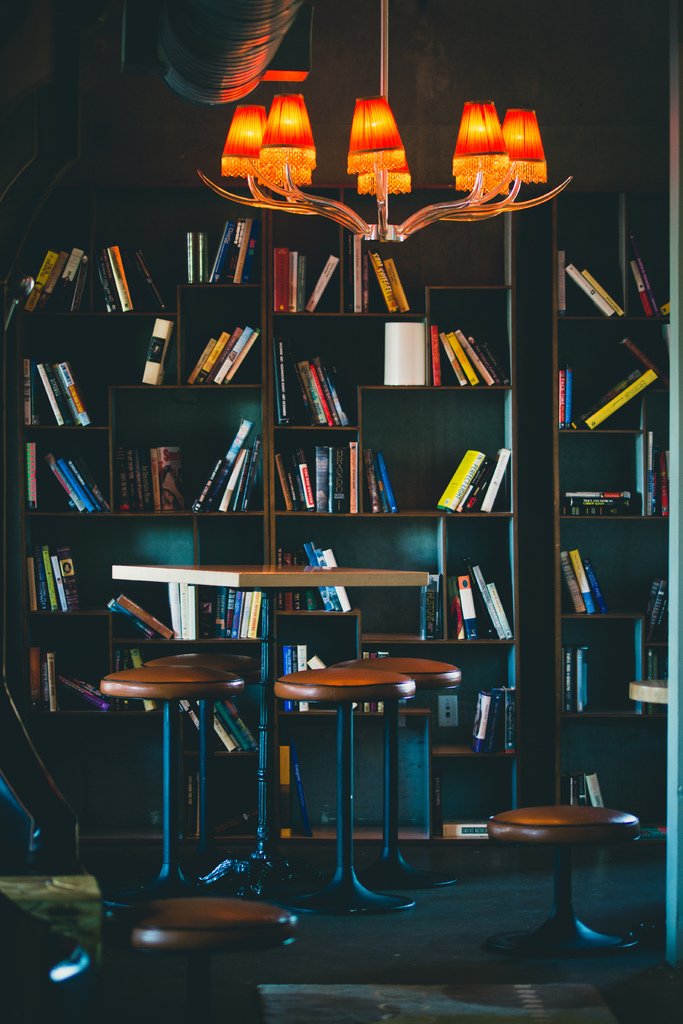Table: (113, 557, 435, 908)
